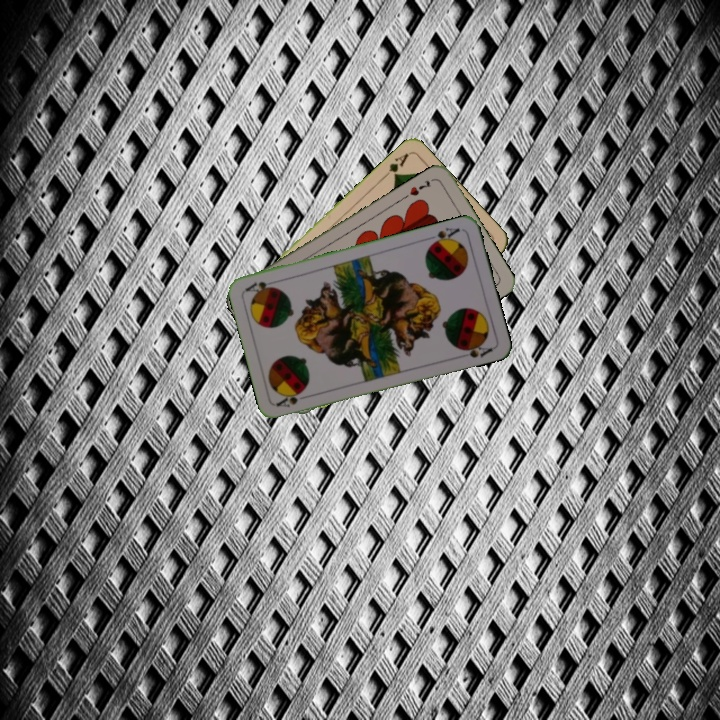GA: (379, 149, 412, 181)
H7: (405, 176, 434, 198)
SA: (424, 223, 462, 248), (273, 387, 313, 410)
